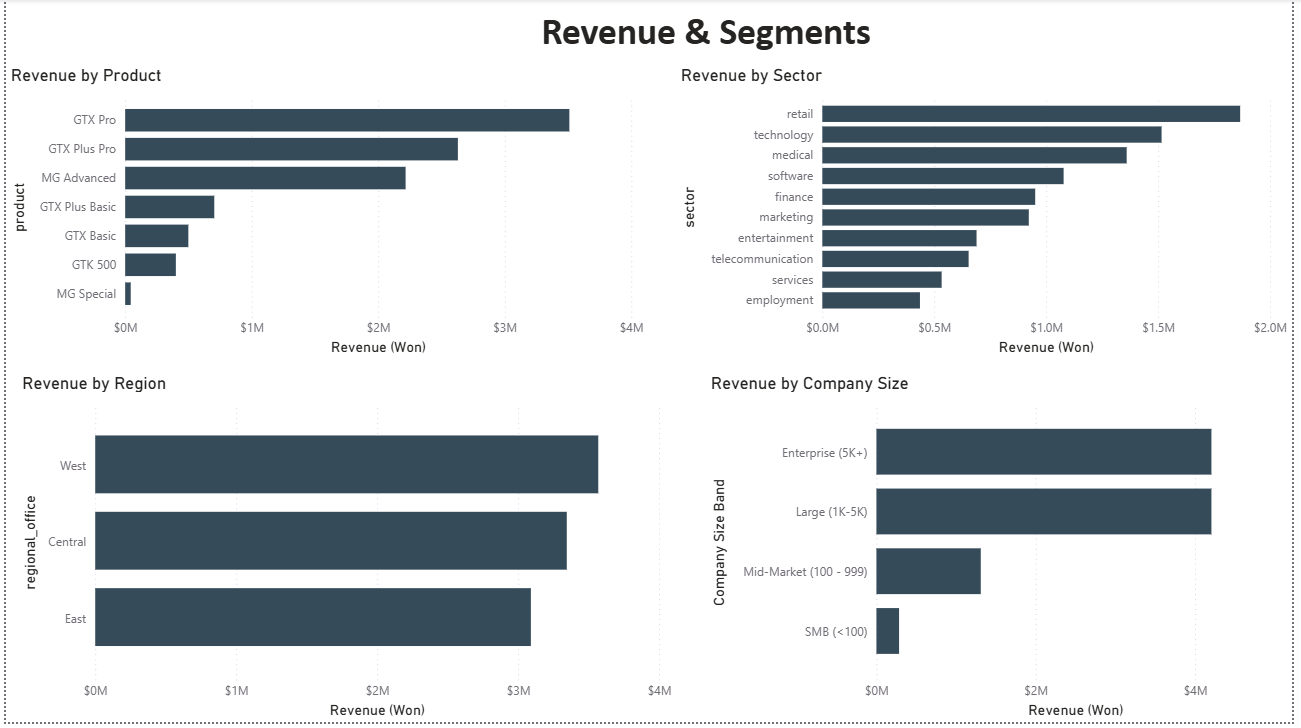

This screenshot's page, from the dashboard's own definition file:
{"tool":"powerbi","page":{"name":"Revenue & Segments","canvas":[1280,720],"ordinal":2},"visuals":[{"type":"clusteredBarChart","title":"Revenue by Product","fields":{"Category":["products.product"],"Y":["_Measures.Revenue (Won)"]},"box":[0,65.9,639.5,293.7],"z":0},{"type":"clusteredBarChart","title":"Revenue by Sector","fields":{"Category":["accounts.sector"],"Y":["_Measures.Revenue (Won)"]},"box":[666.9,65.9,613.4,293.7],"z":1000},{"type":"clusteredBarChart","title":"Revenue by Region","fields":{"Y":["_Measures.Revenue (Won)"],"Category":["sales_team.regional_office"]},"box":[11,371.9,655.9,348.5],"z":2000},{"type":"clusteredBarChart","title":"Revenue by Company Size","fields":{"Y":["_Measures.Revenue (Won)"],"Category":["accounts.Company Size Band"]},"box":[697.1,371.9,583.2,348.5],"z":3000},{"type":"textbox","box":[463.8,5.5,465.2,60.4],"z":4000}]}

Visuals, with their boxes in screenshot pixels (x1, y1, x2, y2), scaled from the page's 1280x720 canvas onto the 1301x728 screenshot:
"Revenue by Product" clusteredBarChart: <bbox>0, 67, 650, 364</bbox>
"Revenue by Sector" clusteredBarChart: <bbox>678, 67, 1300, 364</bbox>
"Revenue by Region" clusteredBarChart: <bbox>11, 376, 678, 727</bbox>
"Revenue by Company Size" clusteredBarChart: <bbox>709, 376, 1300, 727</bbox>
textbox: <bbox>471, 6, 944, 67</bbox>
